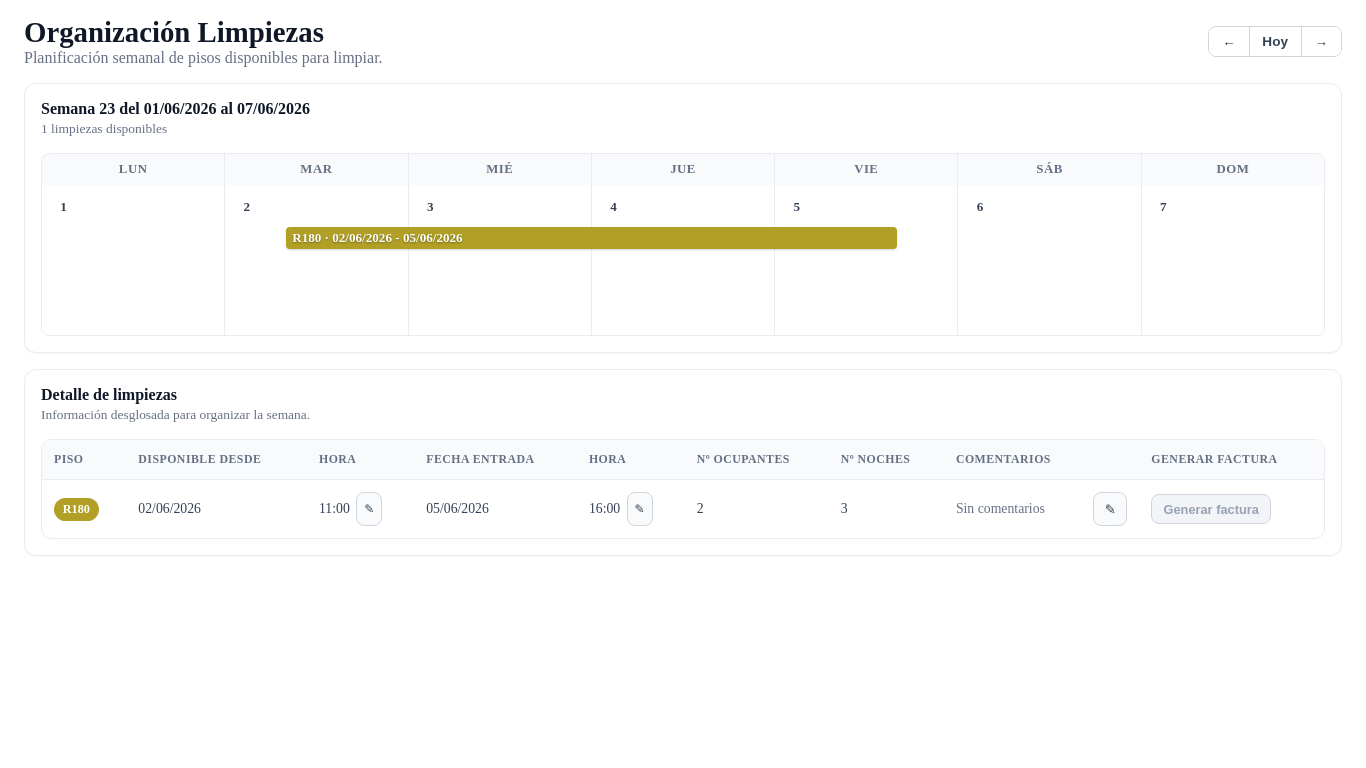
Scenario: CleaningOrganizationComponent › el lápiz de salida edita solo la hora de salida, en la reserva que se va
Click the button with class "time-edit-btn" next to "11:00" at (369, 509), box [356,492,382,526]
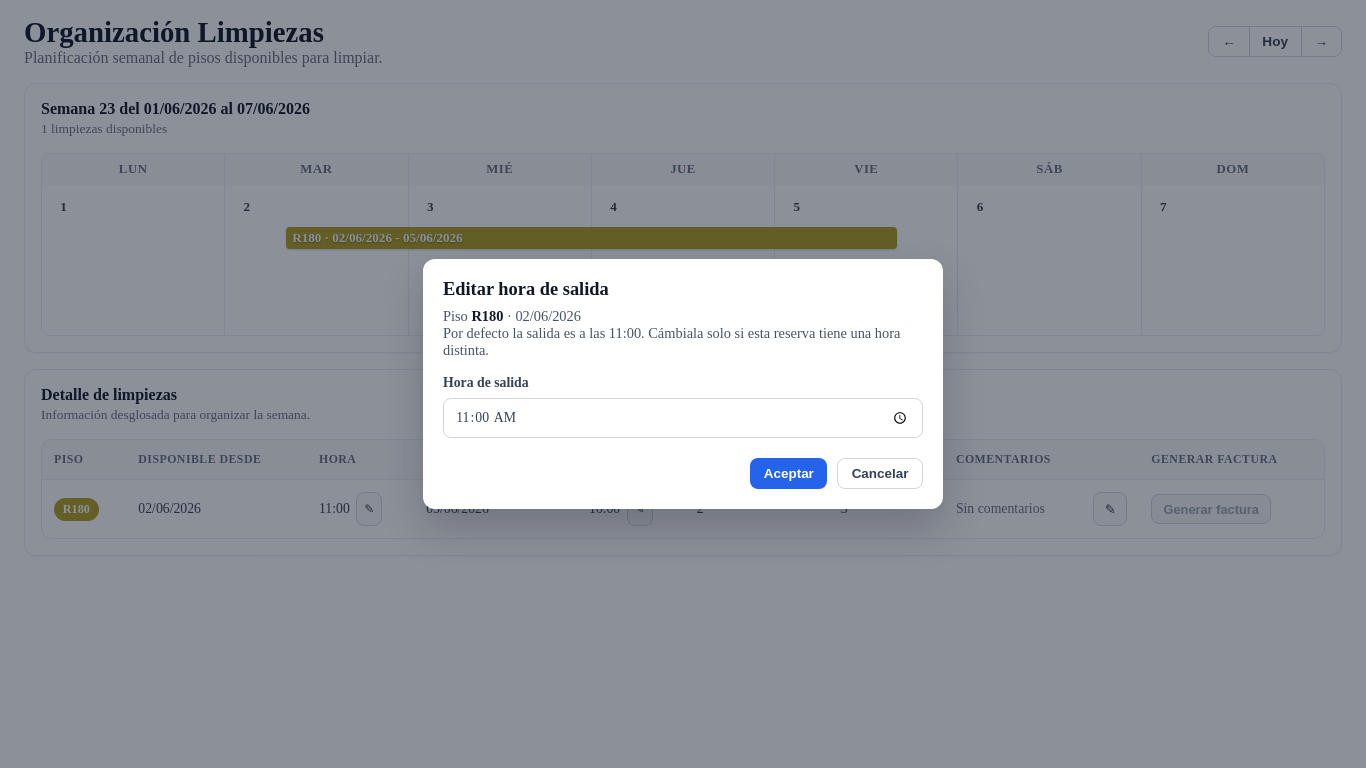
Check: the number of time fields is 1
Check: the time field labelled "Hora de salida" holds "11:00"
Check: the text "Editar hora de salida" is shown, box [443,279,609,299]
Replace the text in the time field labelled "Hora de salida" with "13:30" at (683, 418), box [443,398,923,438]
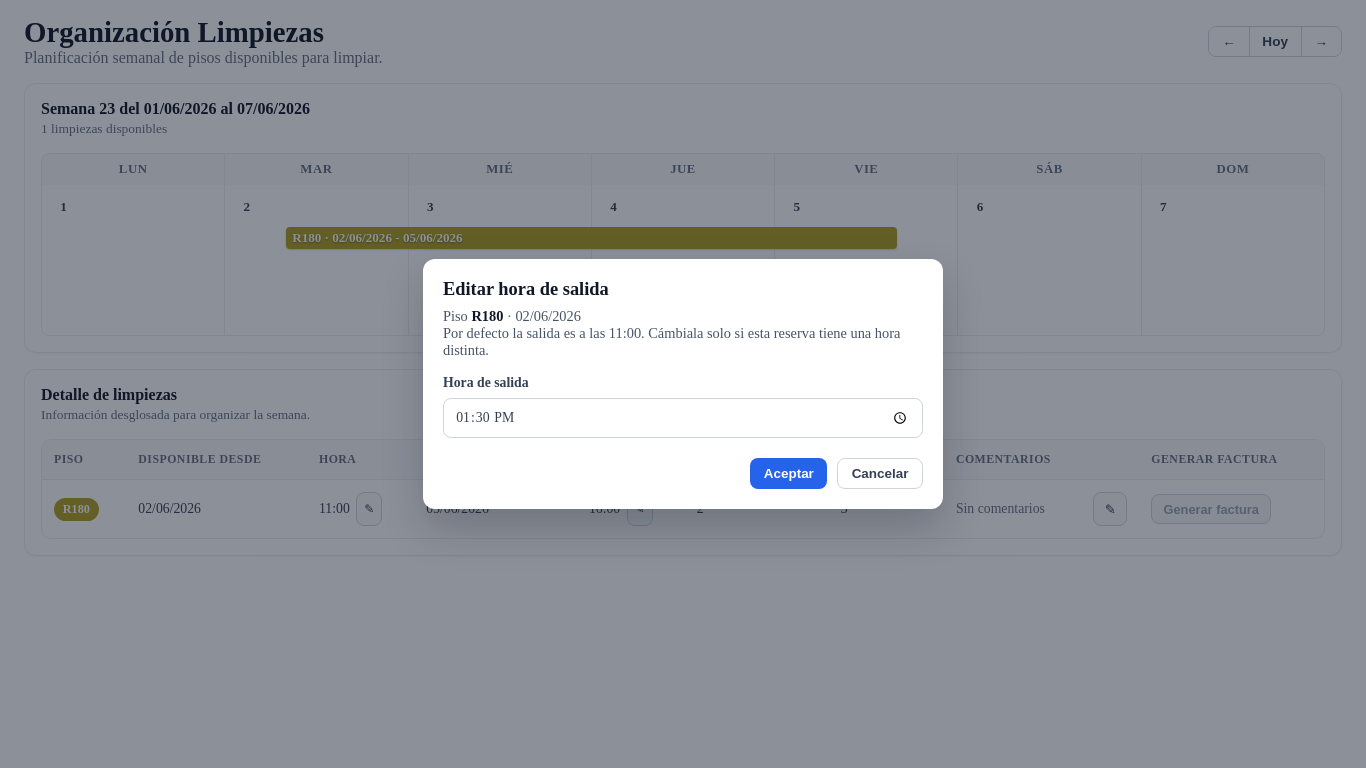
Click the button "Aceptar" at (789, 474), box [750,458,827,489]
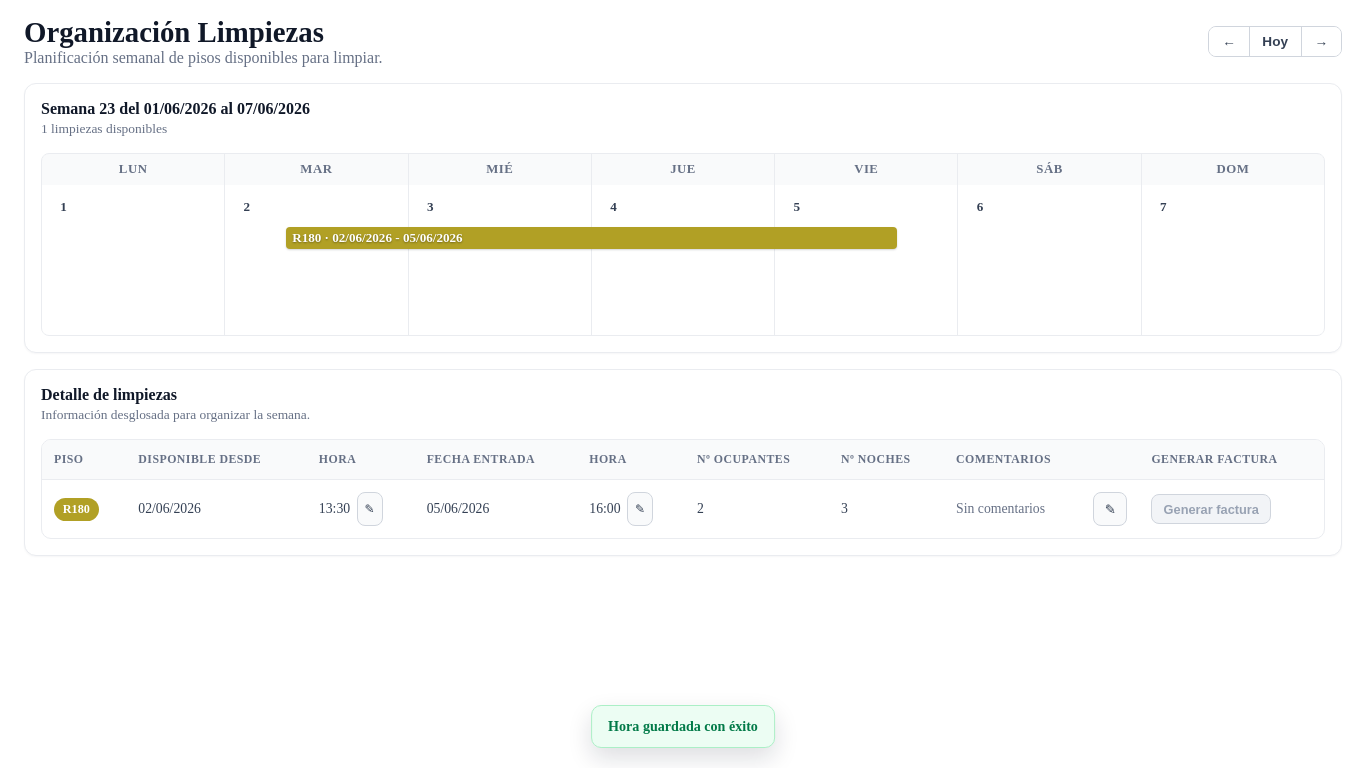
Check: the text "Hora guardada con éxito" is shown, box [591,705,775,748]
